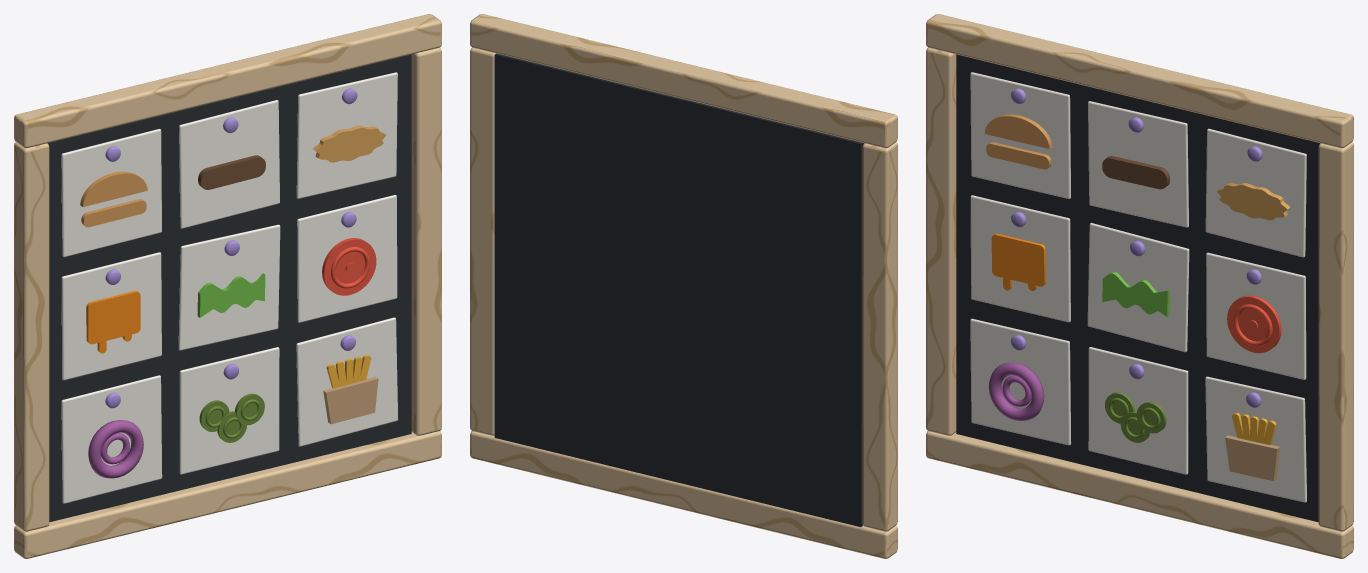
File: SM_IngredientBoard.glb
The picture shows the model from 3 angles, left to right: view 1: azimuth 30°, elevation 25°; view 2: azimuth 150°, elevation 25°; view 3: azimuth 330°, elevation 25°; orthographic projection.
Parts seen in each view (by area): view 1: SM_IngredientBoard, Card_8_Tursu, Card_5_Marul, Card_1_Ekmek, Card_6_Domates, Card_9_Patates, Card_7_Sogan, Card_4_Peynir, Card_3_TavukKofte, Card_2_DanaKofte; view 2: SM_IngredientBoard; view 3: SM_IngredientBoard, Card_8_Tursu, Card_3_TavukKofte, Card_4_Peynir, Card_5_Marul, Card_1_Ekmek, Card_6_Domates, Card_9_Patates, Card_7_Sogan, Card_2_DanaKofte.
Part boxes in pixels (bbox=[...]): SM_IngredientBoard: bbox=[14, 14, 441, 558]; Card_8_Tursu: bbox=[179, 347, 279, 474]; Card_5_Marul: bbox=[178, 224, 280, 350]; Card_1_Ekmek: bbox=[61, 129, 161, 257]; Card_6_Domates: bbox=[297, 195, 397, 322]; Card_9_Patates: bbox=[296, 317, 398, 446]; Card_7_Sogan: bbox=[61, 375, 162, 503]; Card_4_Peynir: bbox=[61, 252, 161, 380]; Card_3_TavukKofte: bbox=[296, 72, 397, 198]; Card_2_DanaKofte: bbox=[179, 100, 279, 228]; SM_IngredientBoard: bbox=[470, 14, 897, 558]; SM_IngredientBoard: bbox=[926, 14, 1353, 558]; Card_8_Tursu: bbox=[1088, 347, 1188, 474]; Card_3_TavukKofte: bbox=[1205, 128, 1306, 257]; Card_4_Peynir: bbox=[970, 195, 1070, 322]; Card_5_Marul: bbox=[1087, 223, 1189, 352]; Card_1_Ekmek: bbox=[970, 72, 1070, 198]; Card_6_Domates: bbox=[1206, 252, 1306, 379]; Card_9_Patates: bbox=[1205, 376, 1306, 502]; Card_7_Sogan: bbox=[970, 318, 1071, 445]; Card_2_DanaKofte: bbox=[1088, 101, 1188, 227].
Size of the model in its own units: 0.8 by 0.8 by 0.05.
Materials: 2 (2 with a texture image).
